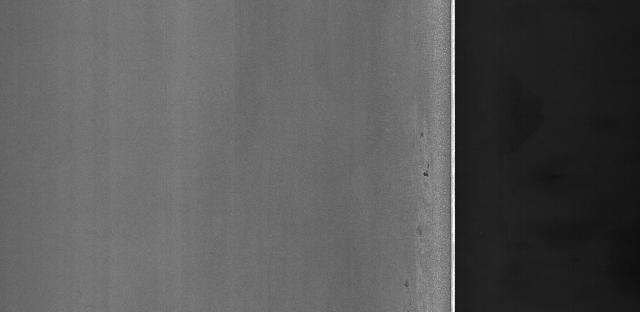inclusion: (400, 275, 420, 308), (419, 162, 435, 182), (415, 127, 430, 144)
